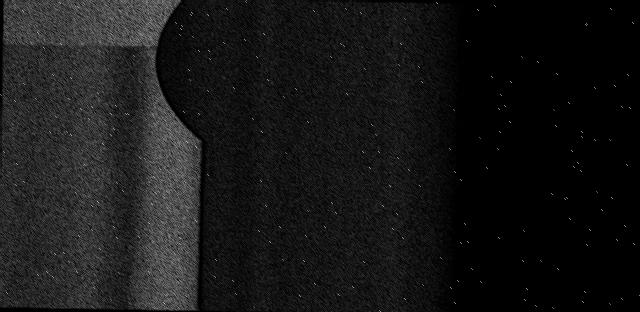welding_line: (4, 36, 160, 56)
